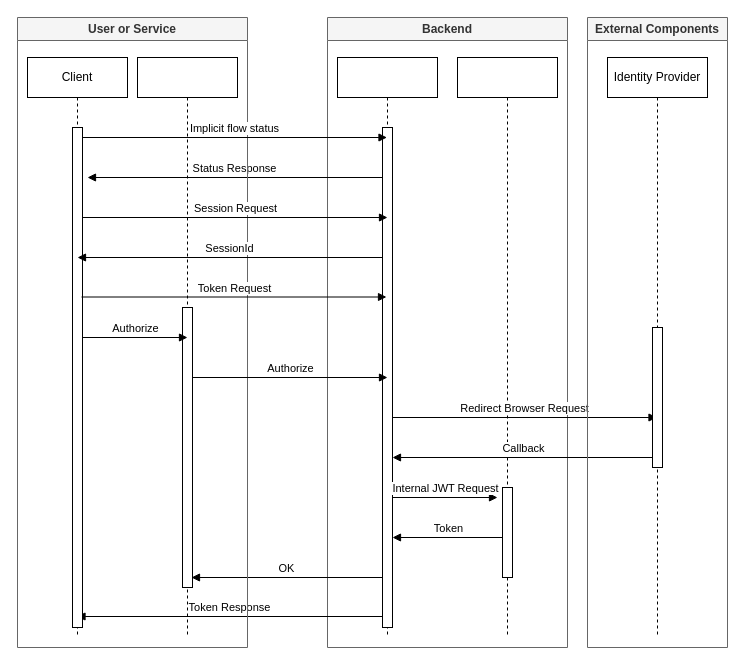
This 745x665 diagram has some shape labels left out. Here are the shapes that lost their labels. From the top down, the box of each, then its label:
(136, 56, 238, 638): Browser
(336, 56, 438, 638): Gateway Service
(456, 56, 558, 638): User Service
